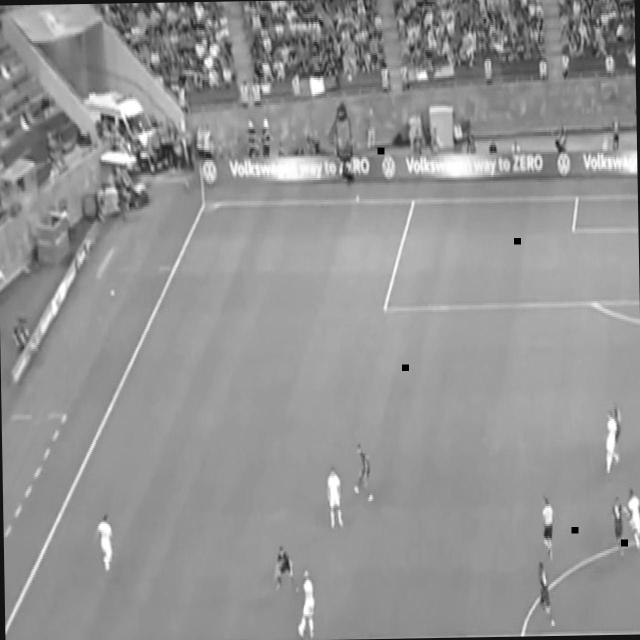ball: (297, 619, 307, 638)
player-white: (350, 439, 376, 508), (532, 561, 556, 631), (270, 543, 300, 598), (95, 508, 117, 580), (325, 460, 347, 532), (296, 564, 316, 640), (607, 495, 630, 559), (540, 492, 556, 571), (623, 487, 640, 557), (602, 406, 619, 474), (611, 398, 625, 466)
